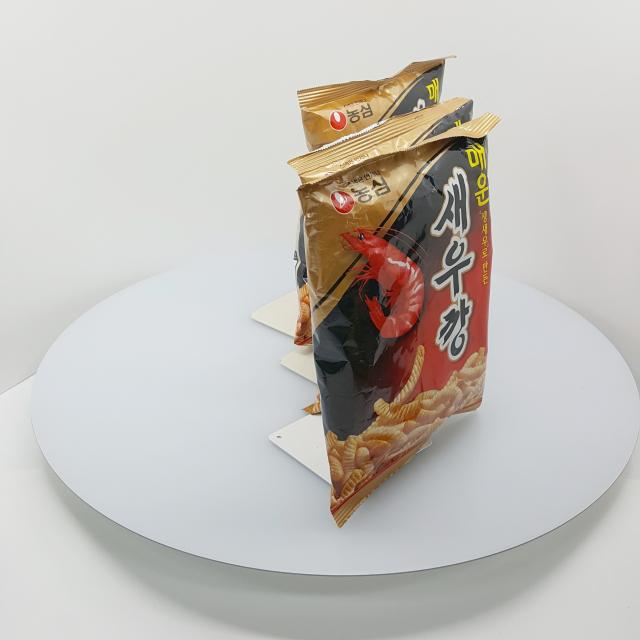-90G: (297, 113, 503, 529)
